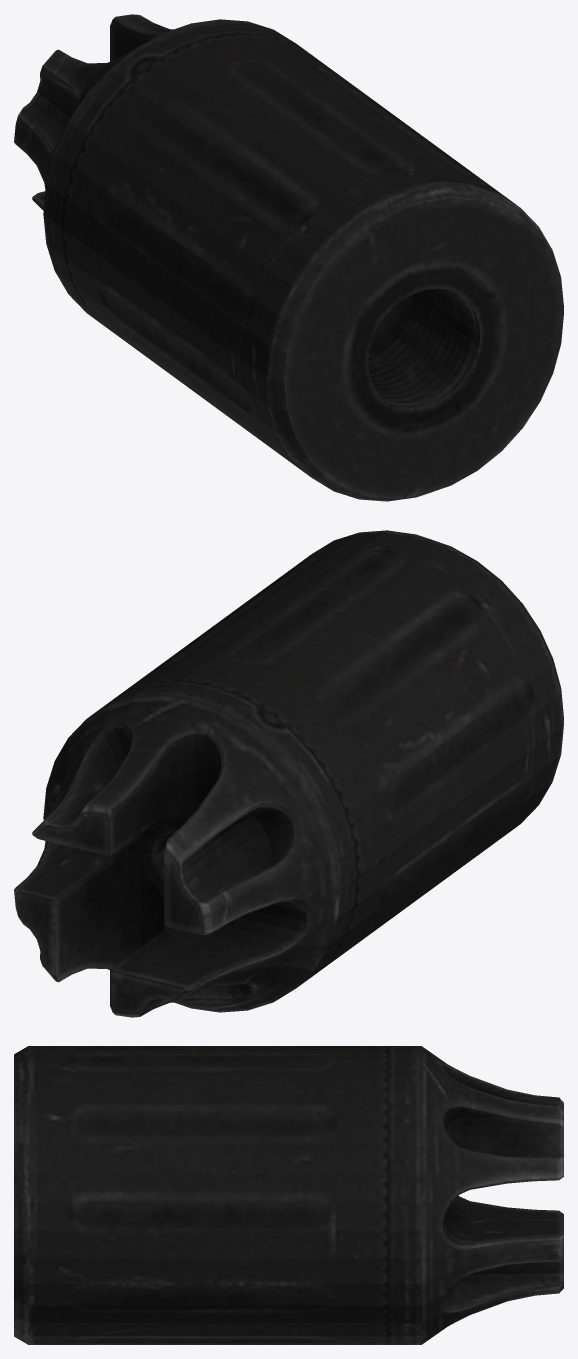
3 views of the same model, one above another, from view 1: azimuth 30°, elevation 25°; view 2: azimuth 150°, elevation 25°; view 3: azimuth 270°, elevation 25° (orthographic). The views are drawn at different scales.
Visible parts, largest first — view 1: TW_5943eeeb86f77412d6384f6b_PZ_Import; view 2: TW_5943eeeb86f77412d6384f6b_PZ_Import; view 3: TW_5943eeeb86f77412d6384f6b_PZ_Import.
Part boxes in pixels (x1=…): TW_5943eeeb86f77412d6384f6b_PZ_Import: x1=14, y1=14, x2=563, y2=501; TW_5943eeeb86f77412d6384f6b_PZ_Import: x1=14, y1=530, x2=563, y2=1017; TW_5943eeeb86f77412d6384f6b_PZ_Import: x1=14, y1=1046, x2=563, y2=1344.
Size of the model in its own units: 0.0194 by 0.0356 by 0.0194.
Materials: 1 (1 with a texture image).
